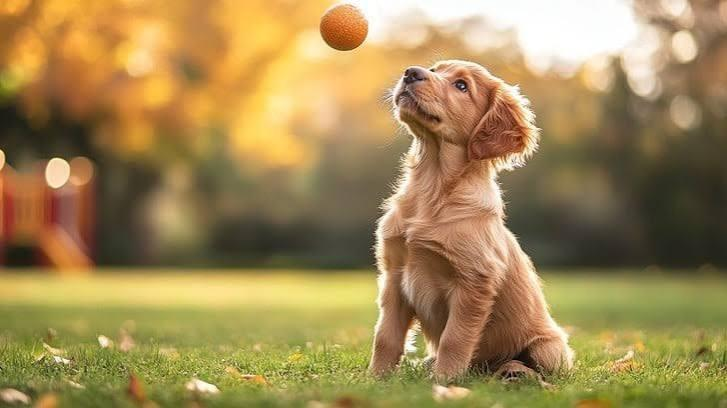puppy-dog: (366, 62, 579, 389)
